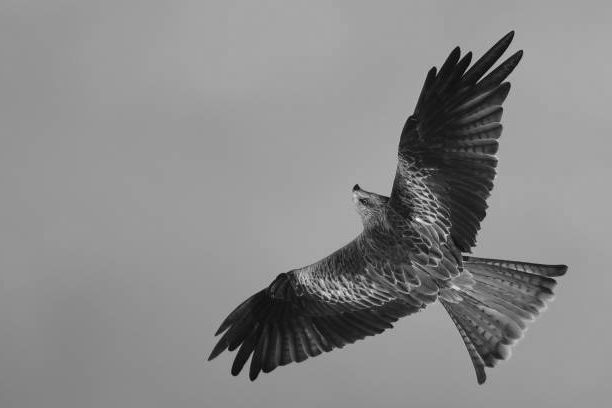Bird: (201, 28, 572, 386)
